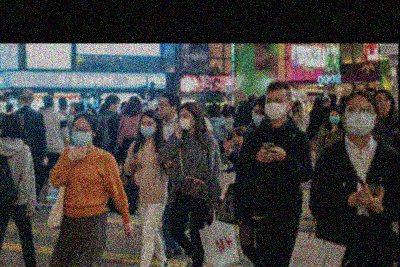with_mask: (345, 101, 372, 137), (265, 93, 287, 119), (70, 123, 91, 147), (138, 118, 155, 138), (177, 112, 192, 131), (250, 106, 264, 125), (328, 112, 340, 123), (110, 101, 120, 113), (15, 101, 23, 109)
without_mask: (374, 95, 391, 115), (157, 99, 172, 119), (232, 134, 243, 144)
